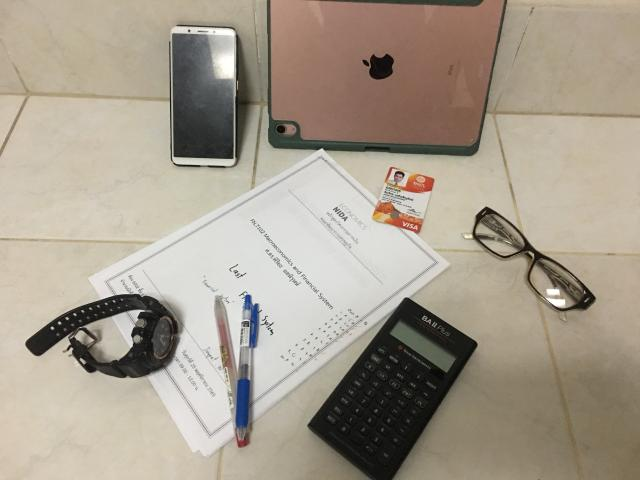Glasses: (470, 208, 595, 312)
Mobile phone: (168, 27, 240, 169)
Pen: (214, 294, 258, 448)
Watch: (25, 294, 178, 378)
paper: (90, 150, 449, 456)
